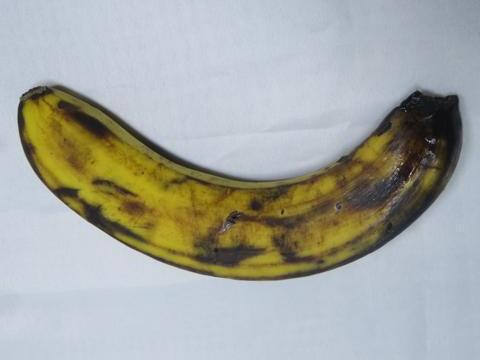overripe: (9, 64, 479, 299)
rotten: (337, 92, 471, 261)
